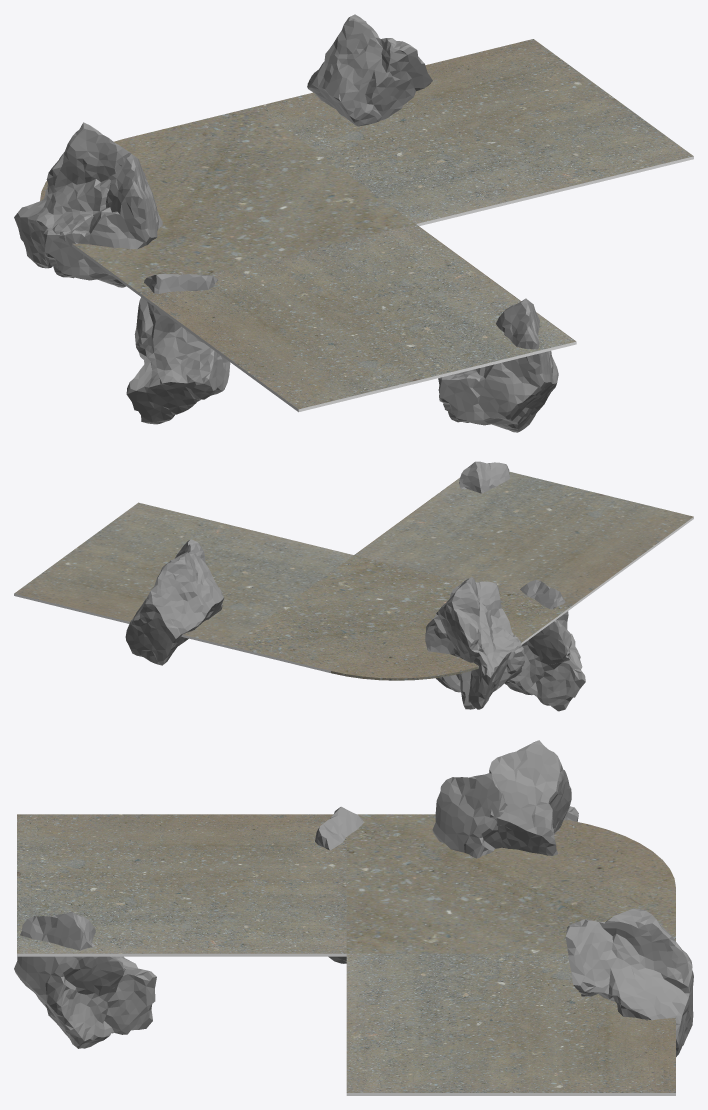
The model's file is turn_left2.fbx.
3 views of the same model, one above another, from view 1: azimuth 30°, elevation 25°; view 2: azimuth 150°, elevation 25°; view 3: azimuth 270°, elevation 25° (orthographic). The views are drawn at different scales.
Parts seen in each view (by area): view 1: Group2, Group4, Group3, skp830C1, skp830C3, skp830C2, skp830C4, skp830C5; view 2: Group2, Group4, Group3, skp830C3, skp830C4, skp830C1, skp830C5, skp830C2; view 3: Group2, Group4, Group3, skp830C2, skp830C3, skp830C4, skp830C5, skp830C1.
Boxes of the visible parts, bbox=[...] form: Group2: bbox=[138, 224, 576, 412]; Group4: bbox=[256, 39, 693, 226]; Group3: bbox=[40, 106, 415, 294]; skp830C1: bbox=[126, 273, 230, 424]; skp830C3: bbox=[307, 14, 432, 126]; skp830C2: bbox=[438, 298, 558, 432]; skp830C4: bbox=[14, 122, 147, 268]; skp830C5: bbox=[43, 153, 162, 287]; Group2: bbox=[354, 471, 693, 609]; Group4: bbox=[14, 502, 353, 648]; Group3: bbox=[229, 555, 569, 680]; skp830C3: bbox=[125, 539, 224, 665]; skp830C4: bbox=[425, 577, 521, 709]; skp830C1: bbox=[504, 580, 585, 711]; skp830C5: bbox=[449, 581, 524, 709]; skp830C2: bbox=[459, 461, 510, 493]; Group2: bbox=[17, 814, 346, 956]; Group4: bbox=[346, 953, 675, 1095]; Group3: bbox=[346, 814, 675, 953]; skp830C2: bbox=[14, 912, 156, 1048]; skp830C3: bbox=[565, 908, 693, 1056]; skp830C4: bbox=[489, 740, 578, 855]; skp830C5: bbox=[432, 773, 559, 858]; skp830C1: bbox=[315, 806, 363, 963].
Bounding box in the file's own units: 2064 × 781 × 2064.
